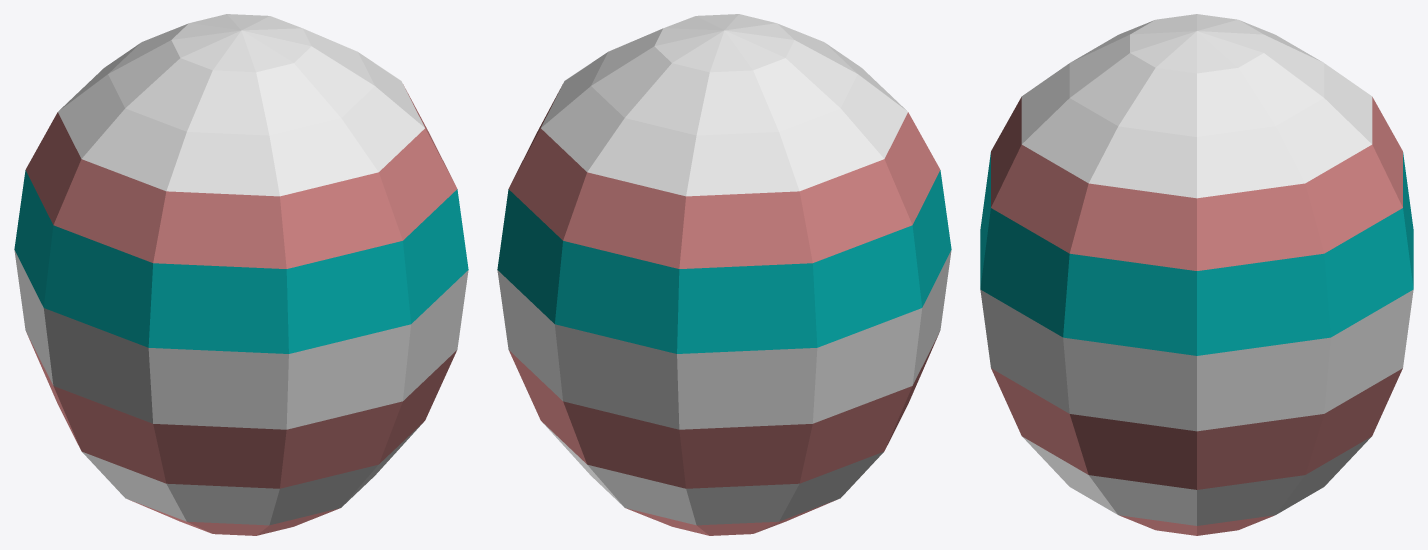
The model's file is egg.fbx.
3 renders of one model, left to right at view 1: azimuth 30°, elevation 25°; view 2: azimuth 150°, elevation 25°; view 3: azimuth 270°, elevation 25°, orthographic.
Visible parts, largest first — view 1: pSphere1; view 2: pSphere1; view 3: pSphere1.
Boxes of the visible parts, left/top/right/bottom form: pSphere1: left=14, top=14, right=468, bottom=535; pSphere1: left=497, top=14, right=951, bottom=535; pSphere1: left=980, top=14, right=1413, bottom=535.
Size of the model in its own units: 2 by 2.36 by 1.9.
